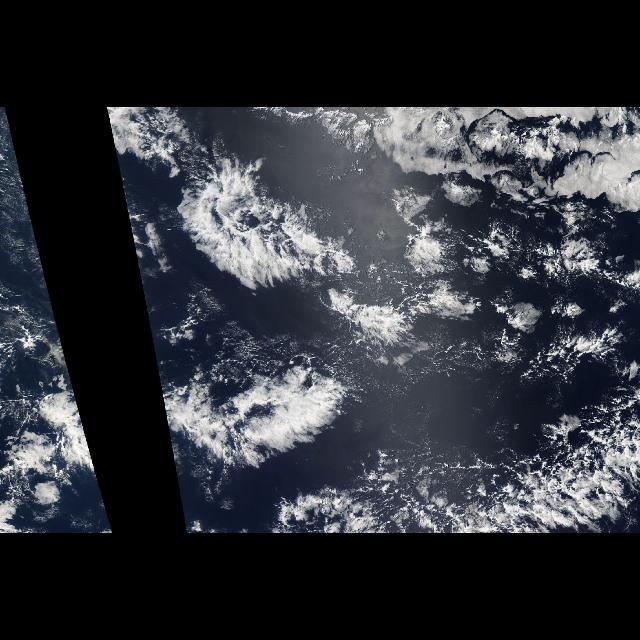Fish: (109, 110, 584, 386)
